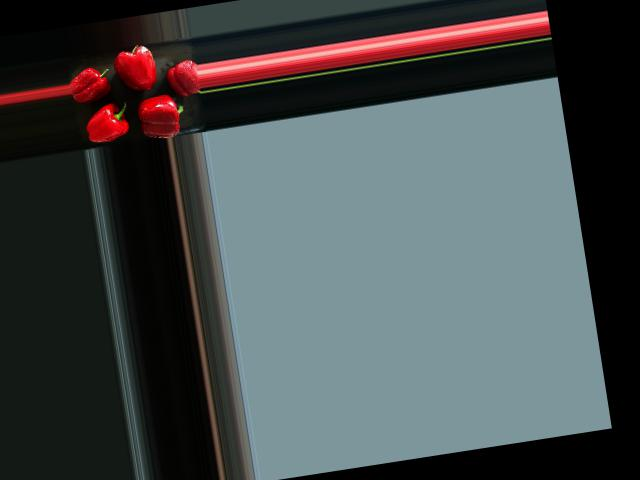bell_pepper: (162, 52, 200, 101)
